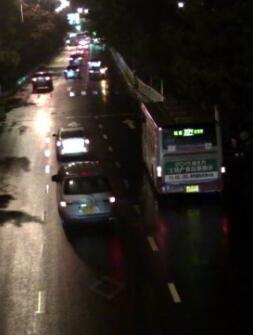bus: (138, 95, 226, 195)
car: (52, 161, 119, 222), (50, 121, 92, 156), (31, 69, 52, 90), (87, 63, 109, 77), (61, 63, 81, 76), (67, 50, 82, 64), (86, 55, 102, 67)
